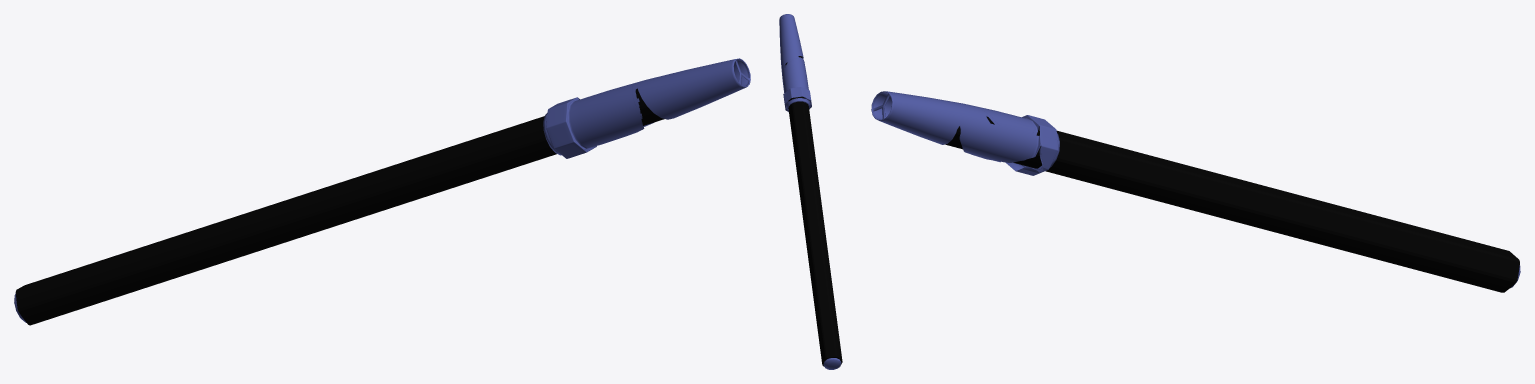
File: pen3.fbx
The picture shows the model from 3 angles, left to right: view 1: azimuth 30°, elevation 25°; view 2: azimuth 150°, elevation 25°; view 3: azimuth 270°, elevation 25°; orthographic projection. The views are drawn at different scales.
Visible parts, largest first — view 1: Cylinder, Cylinder.005; view 2: Cylinder, Cylinder.005, Cylinder.001; view 3: Cylinder, Cylinder.005.
Boxes of the visible parts, x1,y1,x2,y2 form: Cylinder: (15,88,664,325); Cylinder.005: (543,58,750,158); Cylinder: (785,56,842,367); Cylinder.005: (779,14,811,112); Cylinder.001: (823,358,841,369); Cylinder: (945,116,1519,292); Cylinder.005: (871,91,1059,175).
Size of the model in its own units: 669 by 583 by 878.
Materials: 5 (2 with a texture image).
